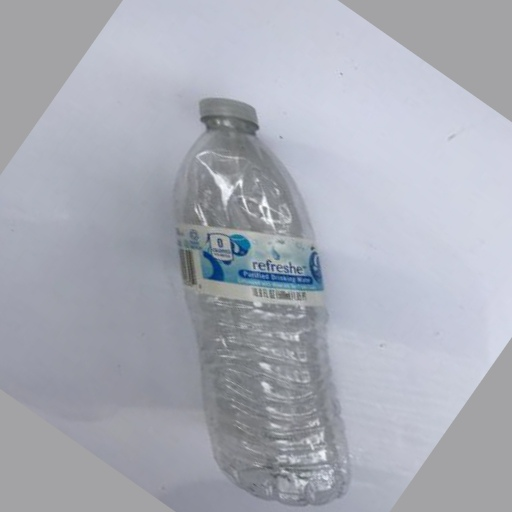Plastic_0: (171, 95, 352, 503)
